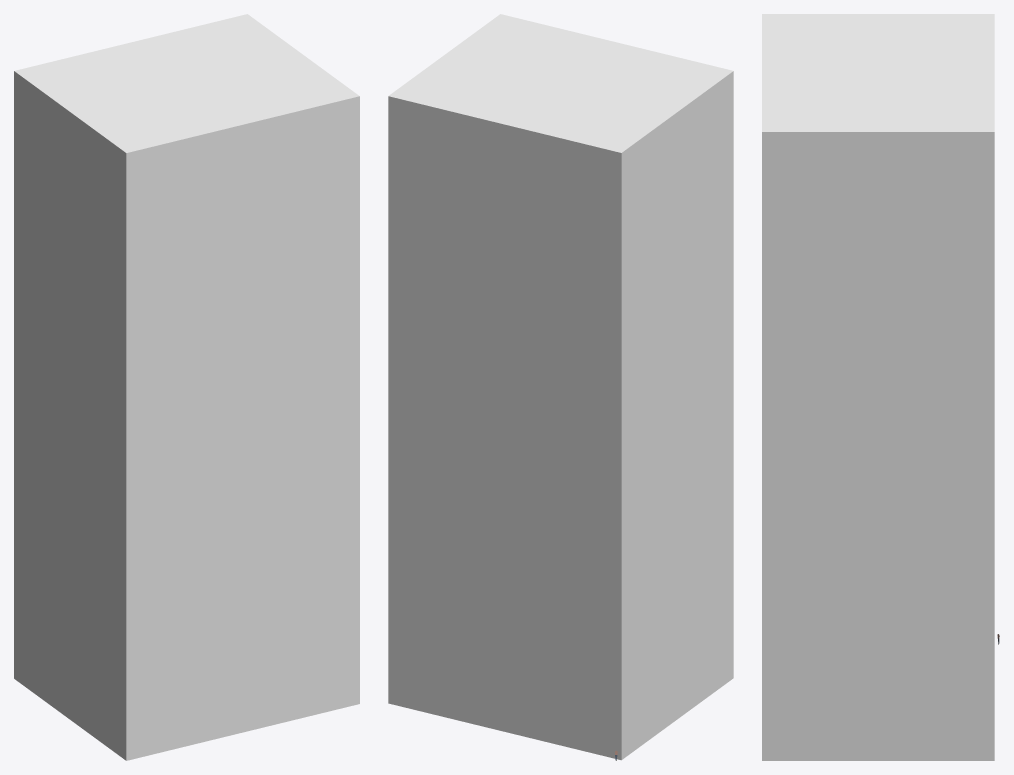
Rendered from the-republic-centre.glb.
The picture shows the model from 3 angles, left to right: view 1: azimuth 30°, elevation 25°; view 2: azimuth 150°, elevation 25°; view 3: azimuth 270°, elevation 25°; orthographic projection. The views are drawn at different scales.
Parts seen in each view (by area): view 1: LOD0; view 2: LOD0; view 3: LOD0.
Part boxes in pixels (<box>): LOD0: <box>14,14,359,760</box>; LOD0: <box>388,14,733,760</box>; LOD0: <box>762,14,999,760</box>.
Size of what is drawn, in the model's own units: 36.58 by 91 by 31.18.
Materials: 1 (1 with a texture image).
